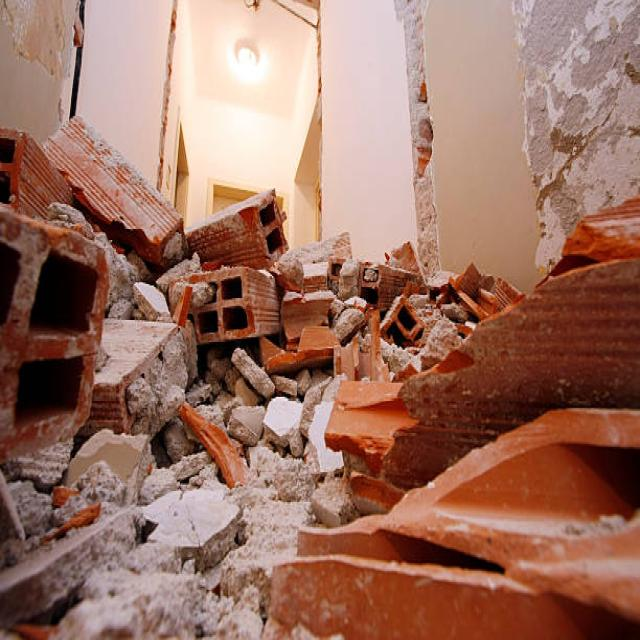trash: (21, 146, 593, 582)
